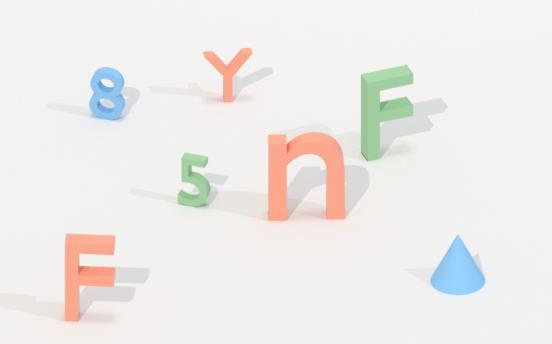5: (174, 150, 215, 213)
8: (87, 63, 126, 120)
F: (356, 60, 419, 168), (60, 230, 120, 330)
Y-hoa: (201, 46, 256, 108)
n: (263, 129, 349, 226)
non: (430, 230, 486, 299)
